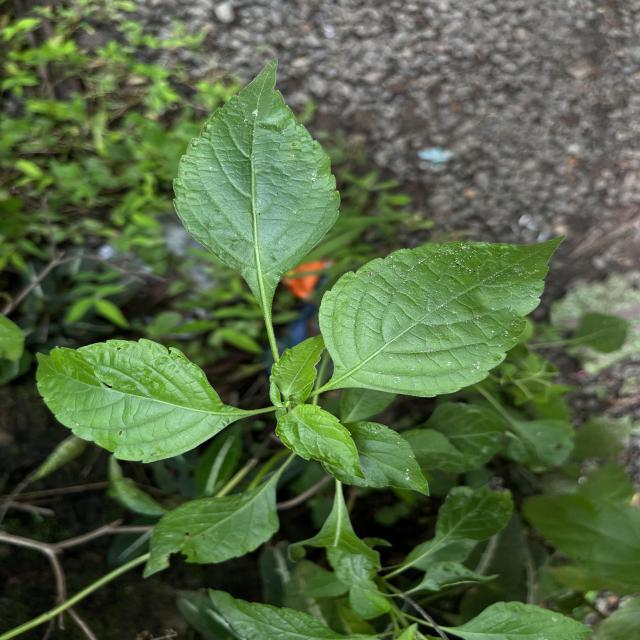Ocimum gratissimum: (168, 54, 344, 330), (314, 230, 570, 404), (31, 336, 260, 471), (140, 466, 286, 581), (272, 398, 372, 486)
